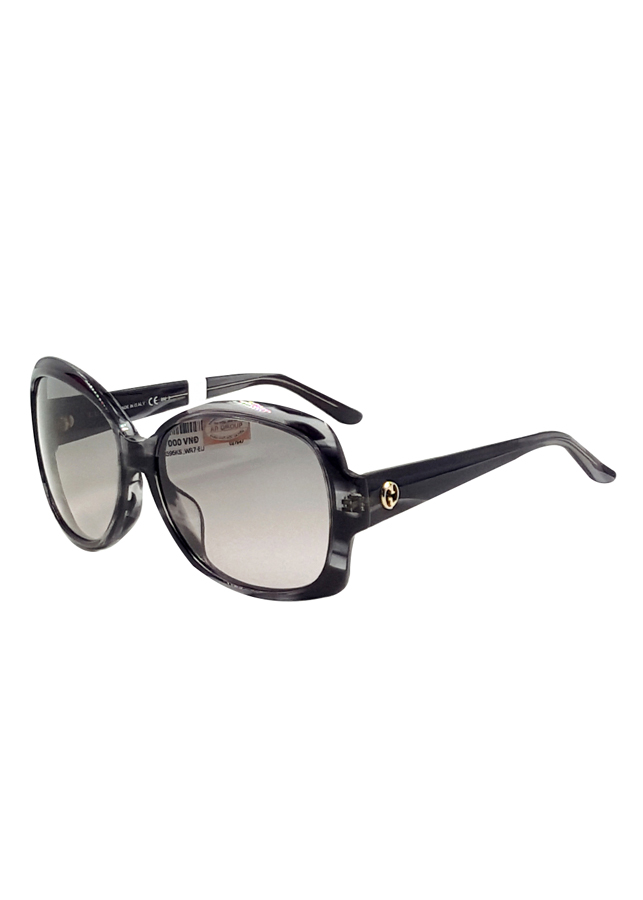Gucci: (373, 475, 406, 514)
